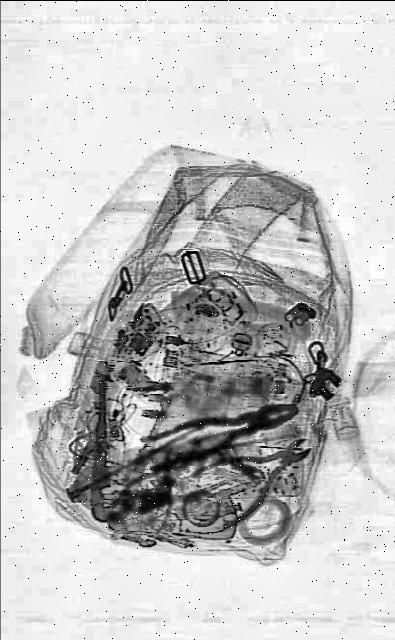Pliers: (189, 407, 317, 538), (138, 386, 300, 476)
